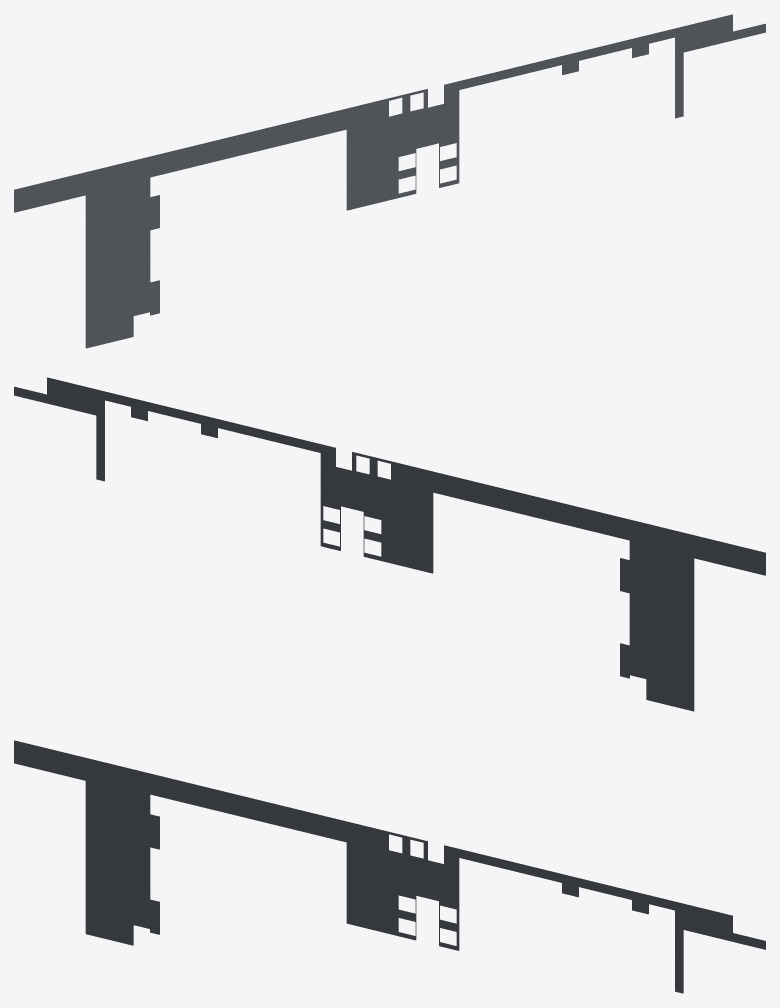
Rendered from floor_4.obj.
3 renders of one model, top to bottom at view 1: azimuth 30°, elevation 25°; view 2: azimuth 150°, elevation 25°; view 3: azimuth 330°, elevation 25°, orthographic.
Parts seen in each view (by area): view 1: floor_4; view 2: floor_4; view 3: floor_4.
Part boxes in pixels (<box>): floor_4: <box>14,14,765,348</box>; floor_4: <box>14,377,765,711</box>; floor_4: <box>14,740,765,993</box>.
Size of the model in its own units: 114 by 25.5 by 0.1.
1 material, 1 textured.
